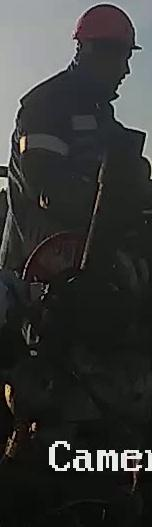helmet: (71, 4, 143, 68)
vest: (10, 88, 125, 271)
